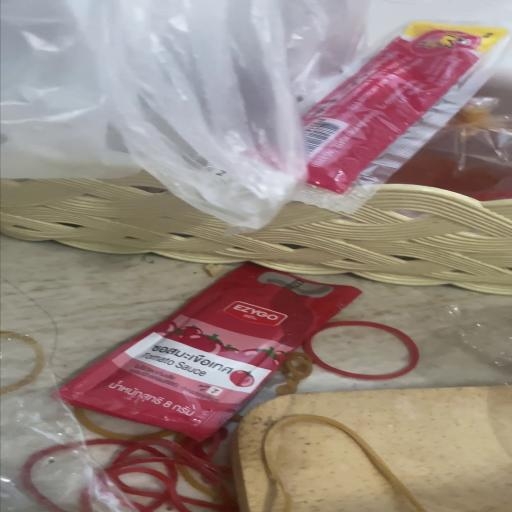brand_golden_good: (230, 386, 512, 512)
